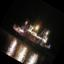fishing boat: (6, 5, 62, 56)
